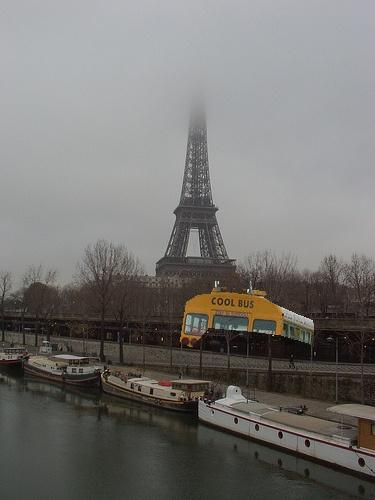tampered: (181, 282, 314, 347)
